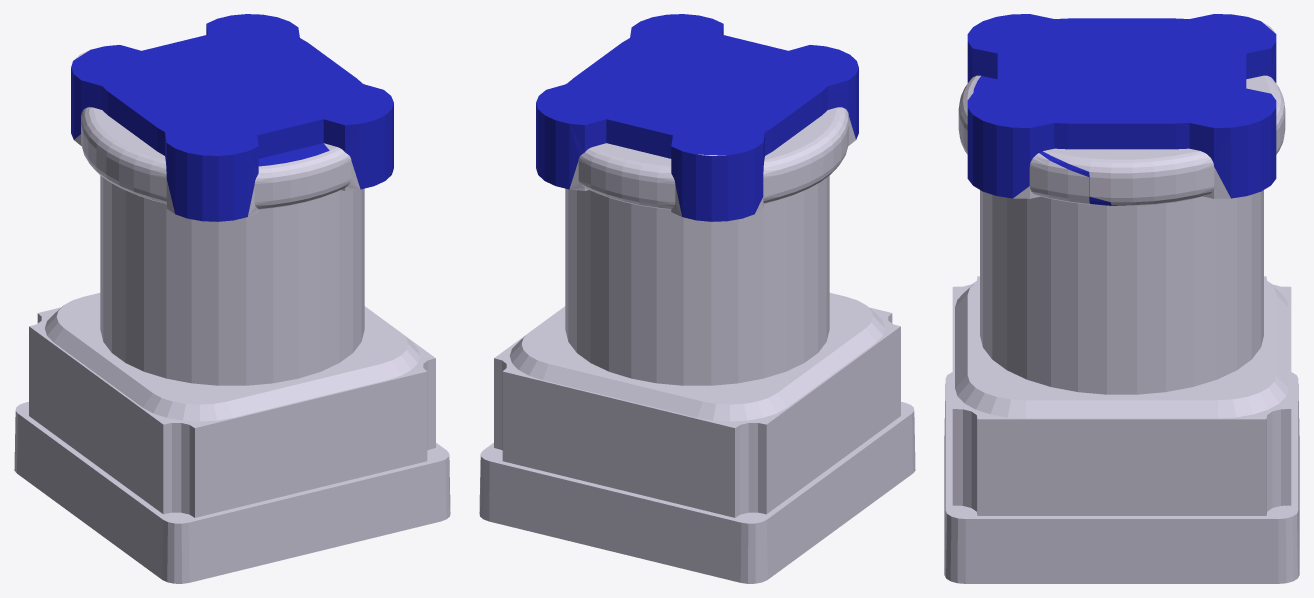
The model's file is laser_link.dae.
3 views of the same model, side by side, from view 1: azimuth 30°, elevation 25°; view 2: azimuth 150°, elevation 25°; view 3: azimuth 270°, elevation 25° (orthographic). The views are drawn at different scales.
Visible parts, largest first — view 1: laser_link; view 2: laser_link; view 3: laser_link.
Part boxes in pixels (x1,y1,x2,y2): laser_link: [14, 14, 450, 583]; laser_link: [479, 14, 915, 583]; laser_link: [944, 14, 1299, 583].
Size of the model in its own units: 0.05 by 0.05 by 0.068.
